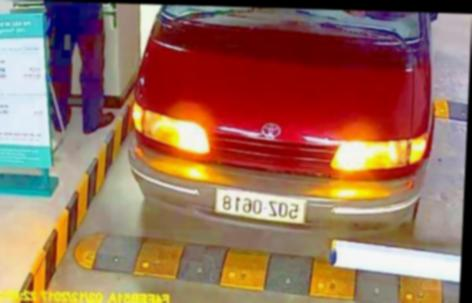License_Plate: (211, 191, 307, 221)
